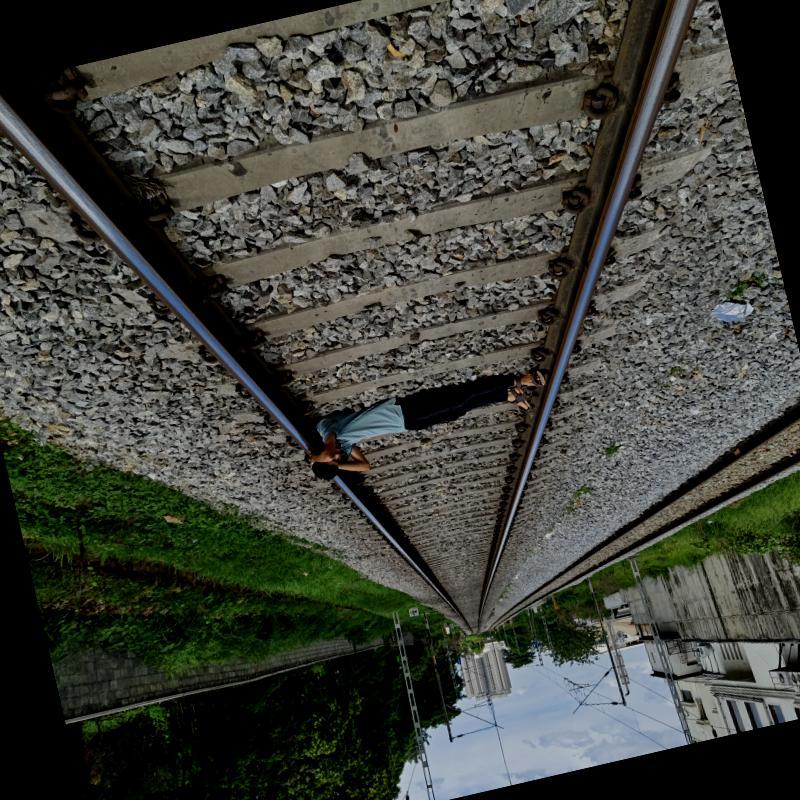sleeping: (291, 358, 562, 498)
